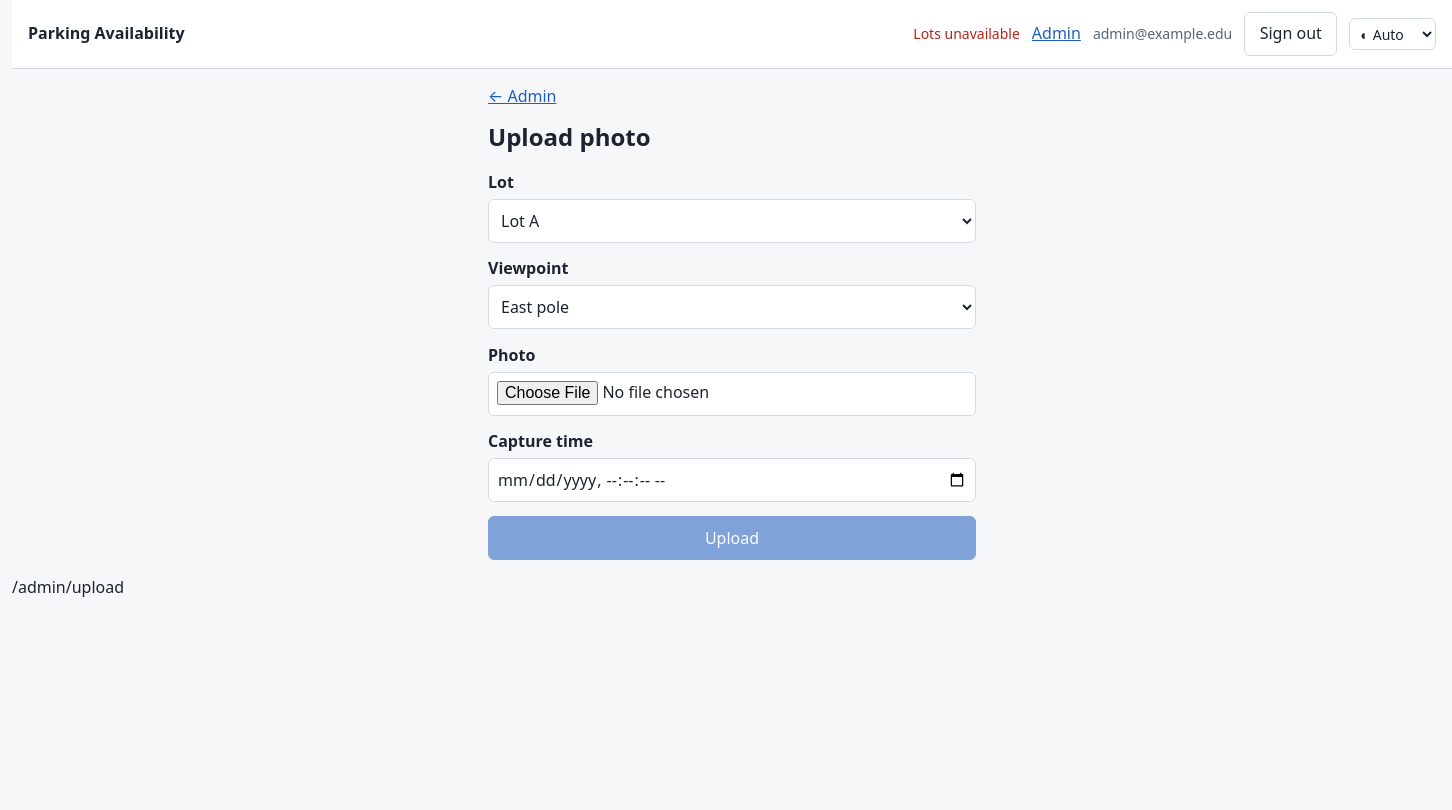
Test case: upload form integrity › does not carry the previous lot's only viewpoint over to a newly chosen lot
The width and height of the screenshot is (1452, 810).
Check: the dropdown labelled "Viewpoint" shows "East pole", box left=488, top=285, right=976, bottom=329
Select "Lot B" in the dropdown labelled "Lot" at (732, 221), box left=488, top=199, right=976, bottom=243
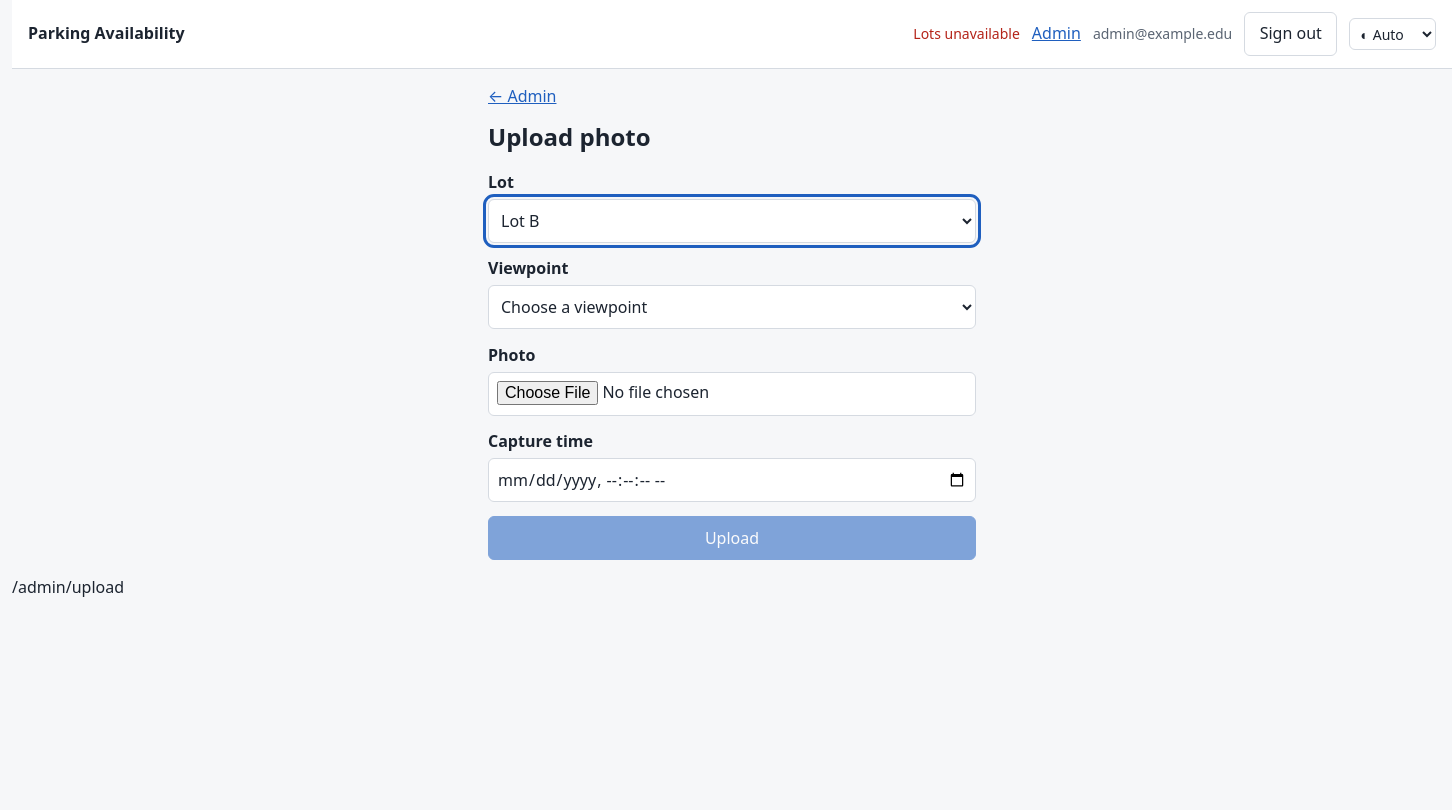
Check: the option "East pole" is not shown
Check: the dropdown labelled "Viewpoint" shows "Choose a viewpoint", box left=488, top=285, right=976, bottom=329
